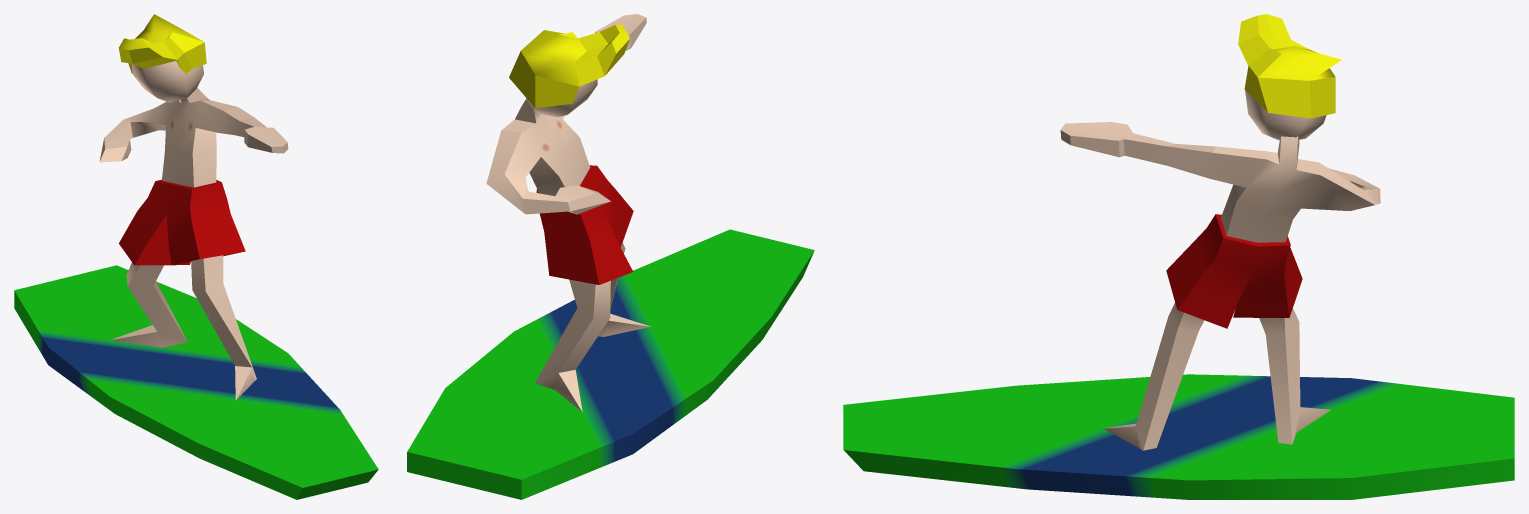
The model's file is surfer.fbx.
3 views of the same model, side by side, from view 1: azimuth 30°, elevation 25°; view 2: azimuth 150°, elevation 25°; view 3: azimuth 270°, elevation 25° (orthographic). The views are drawn at different scales.
Parts seen in each view (by area): view 1: surfer; view 2: surfer; view 3: surfer.
Boxes of the visible parts, x1,y1,x2,y2 form: surfer: (14, 14, 378, 499); surfer: (407, 14, 814, 499); surfer: (843, 14, 1514, 499).
Bounding box in the file's own units: 2.17 × 3.97 × 5.79.
1 material, 1 textured.
